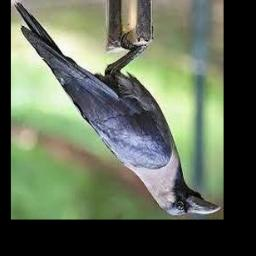Crow: (16, 2, 222, 215)
